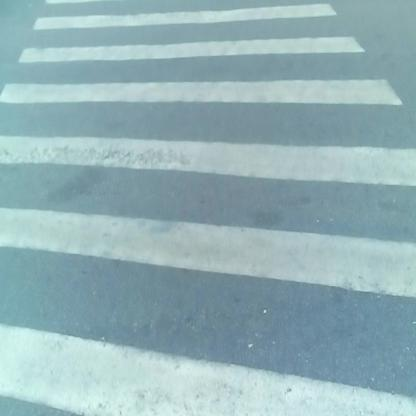crosswalk: (12, 26, 416, 416)
